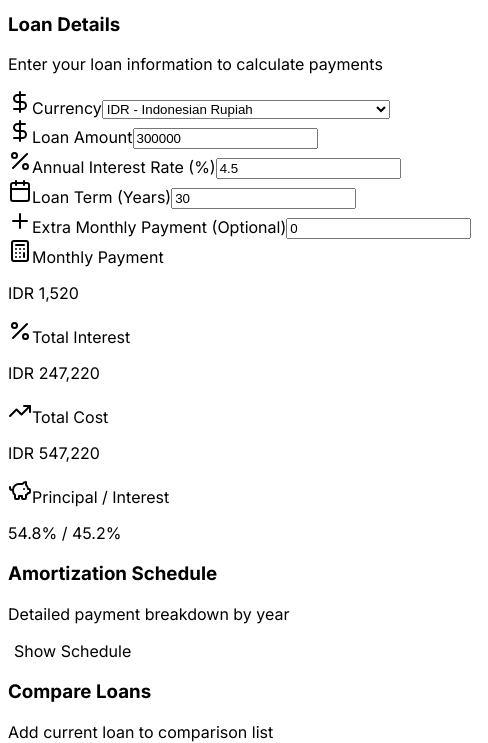
it: Loan Calculator Page › Amortization Schedule › shows schedule when toggle button is clicked
(page scrolled)
Click the button "Show Schedule". click: (73, 651)
box: [8, 640, 137, 662]
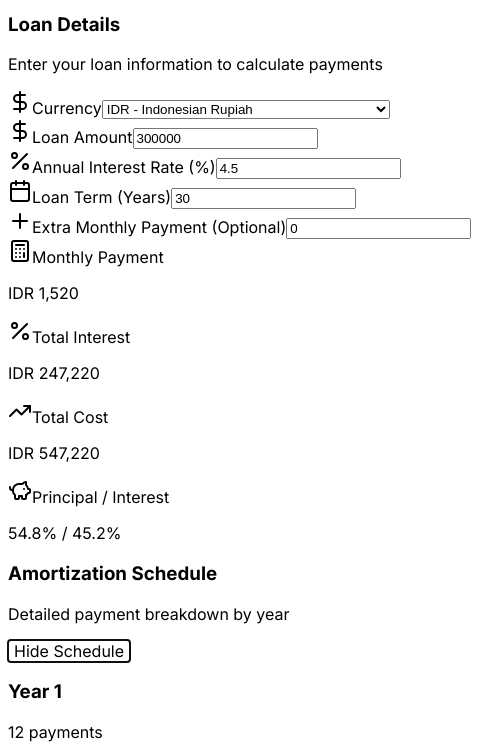
Expected: the heading "Year 1" is shown, [8, 680, 62, 704]
